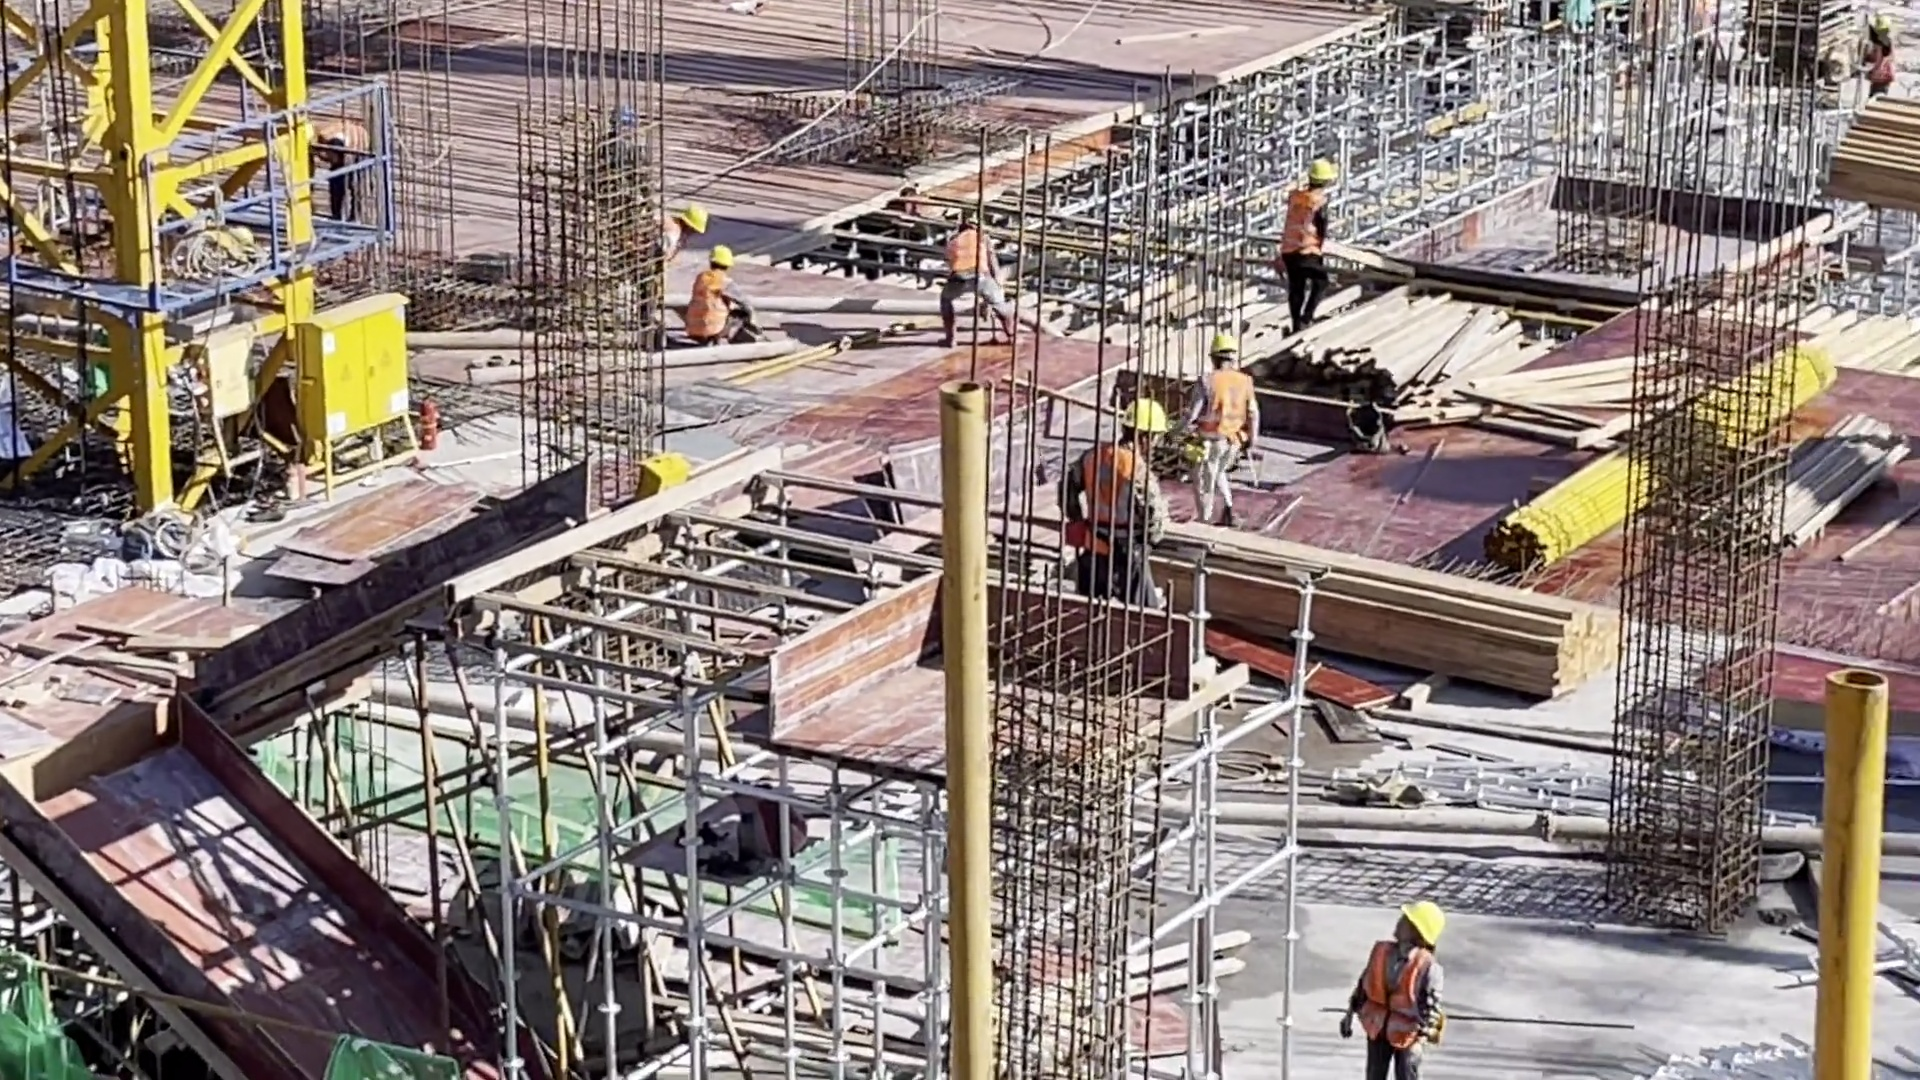helmet: (1400, 900, 1443, 948), (1124, 399, 1168, 433), (680, 203, 707, 234), (1208, 335, 1238, 355), (1308, 160, 1336, 179), (709, 245, 732, 268)
person: (1061, 396, 1171, 608), (1346, 900, 1444, 1080), (1182, 339, 1261, 526), (940, 220, 1017, 349), (1282, 158, 1336, 335), (647, 202, 707, 327), (688, 247, 759, 347), (1870, 16, 1893, 96)
vest: (1358, 943, 1420, 1054), (1083, 443, 1142, 554), (1201, 372, 1252, 456), (686, 276, 729, 343), (946, 231, 989, 291), (1282, 192, 1320, 260), (690, 280, 732, 334)
